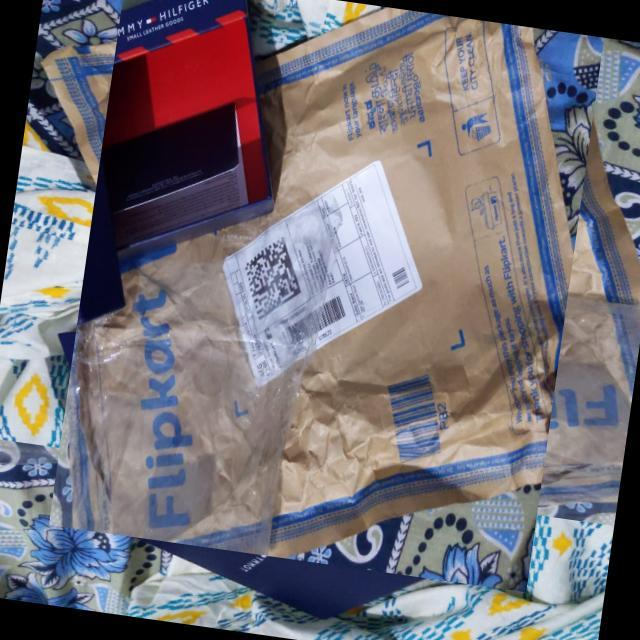cardboxes: (13, 0, 640, 559)
